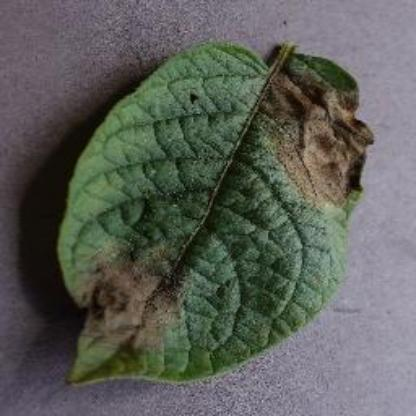Late-Blight: (53, 48, 384, 398)
